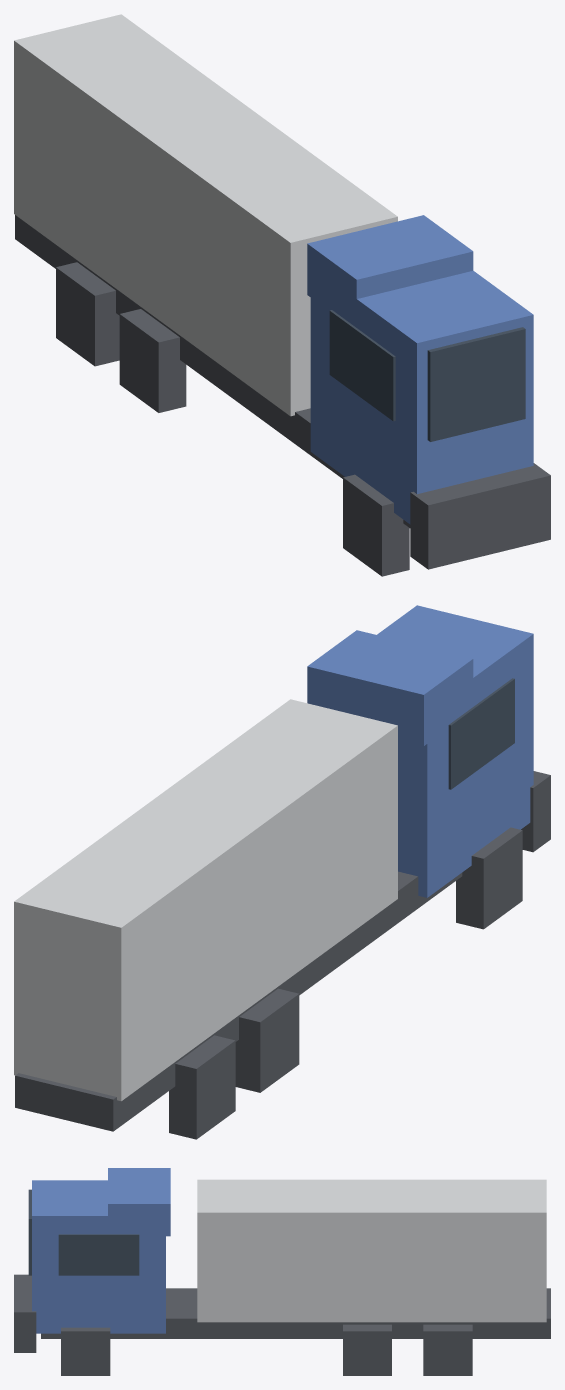
File: container-truck.glb
3 renders of one model, top to bottom at view 1: azimuth 30°, elevation 25°; view 2: azimuth 150°, elevation 25°; view 3: azimuth 270°, elevation 25°, orthographic. The views are drawn at different scales.
Parts seen in each view (by area): view 1: container-truck; view 2: container-truck; view 3: container-truck.
Part boxes in pixels (box(x1,y1,x2,y2)): container-truck: box(14, 14, 550, 576); container-truck: box(14, 605, 550, 1139); container-truck: box(14, 1168, 550, 1375).
Bounding box in the file's own units: 2.29 × 4.15 × 12.
